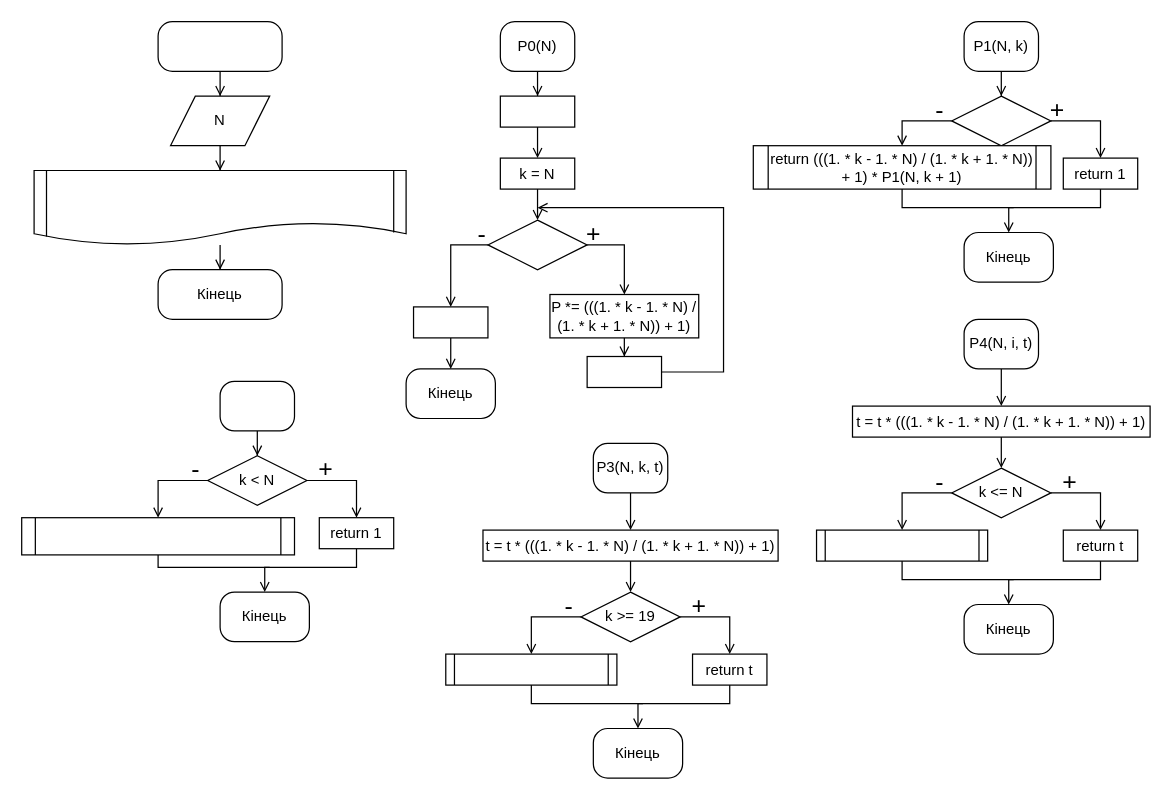
Some shapes in this 1172 by 800 pixel diagram are drawn without their labels. The shapes that lost their labels are listed below. From the top down, each one's centre as x and y in pixels, then its label:
the point at 219,45: Початок
the point at 537,111: P = 1
the point at 1000,120: k > 19
the point at 219,207: P0(N), P1(N, N), P2(N, 19), P3(N, N, 1), P4(N, 19,1)
the point at 537,244: k <= 19
the point at 450,322: return P
the point at 624,371: k++
the point at 256,405: P2(N, k)
the point at 157,535: return (((1. * k - 1. * N) / (1. * k + 1. * N)) + 1) * P2(N, k - 1)
the point at 901,545: return P4(N, k - 1, t)
the point at 531,669: return P3(N, k + 1, t)
